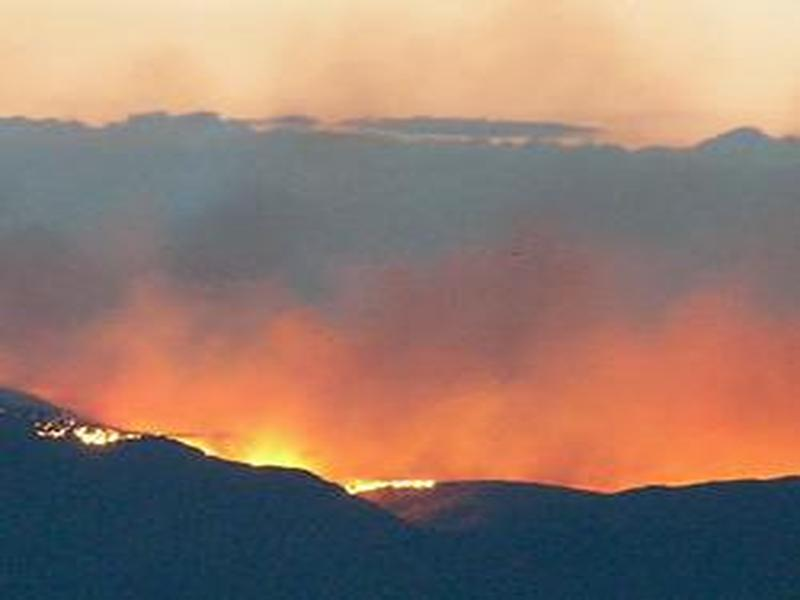FIRE: (29, 347, 481, 535)
